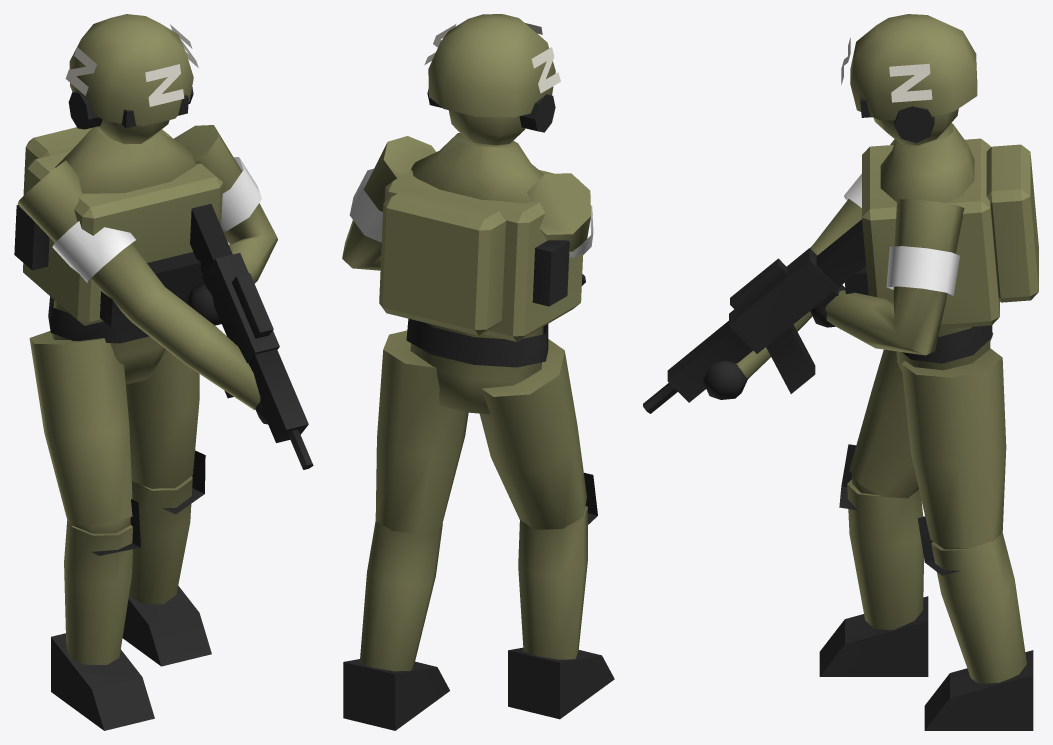
Rendered from ru-rifleman.glb.
3 views of the same model, side by side, from view 1: azimuth 30°, elevation 25°; view 2: azimuth 150°, elevation 25°; view 3: azimuth 270°, elevation 25° (orthographic). The views are drawn at different scales.
Parts seen in each view (by area): view 1: limb_m_hips, limb_m_arms, limb_m_thigh_l, limb_m_shin_l, limb_m_shin_r, limb_m_thigh_r; view 2: limb_m_hips, limb_m_shin_r, limb_m_shin_l, limb_m_thigh_l, limb_m_thigh_r, limb_m_arms; view 3: limb_m_hips, limb_m_arms, limb_m_thigh_r, limb_m_shin_r, limb_m_shin_l, limb_m_thigh_l.
Part boxes in pixels (<box>): limb_m_hips: <box>14,14,223,384</box>; limb_m_arms: <box>17,125,313,469</box>; limb_m_thigh_l: <box>29,331,140,555</box>; limb_m_shin_l: <box>51,520,154,730</box>; limb_m_shin_r: <box>122,476,211,666</box>; limb_m_thigh_r: <box>126,349,205,514</box>; limb_m_hips: <box>379,14,583,414</box>; limb_m_shin_r: <box>343,521,449,730</box>; limb_m_shin_l: <box>508,506,614,719</box>; limb_m_thigh_l: <box>479,339,597,529</box>; limb_m_thigh_r: <box>375,330,468,535</box>; limb_m_arms: <box>342,136,593,285</box>; limb_m_hips: <box>841,14,1038,371</box>; limb_m_arms: <box>643,139,964,413</box>; limb_m_thigh_r: <box>901,348,1006,575</box>; limb_m_shin_r: <box>924,532,1033,730</box>; limb_m_shin_l: <box>819,479,928,676</box>; limb_m_thigh_l: <box>839,332,993,510</box>.
Size of the model in its own units: 0.2179 by 0.5489 by 0.2951.
